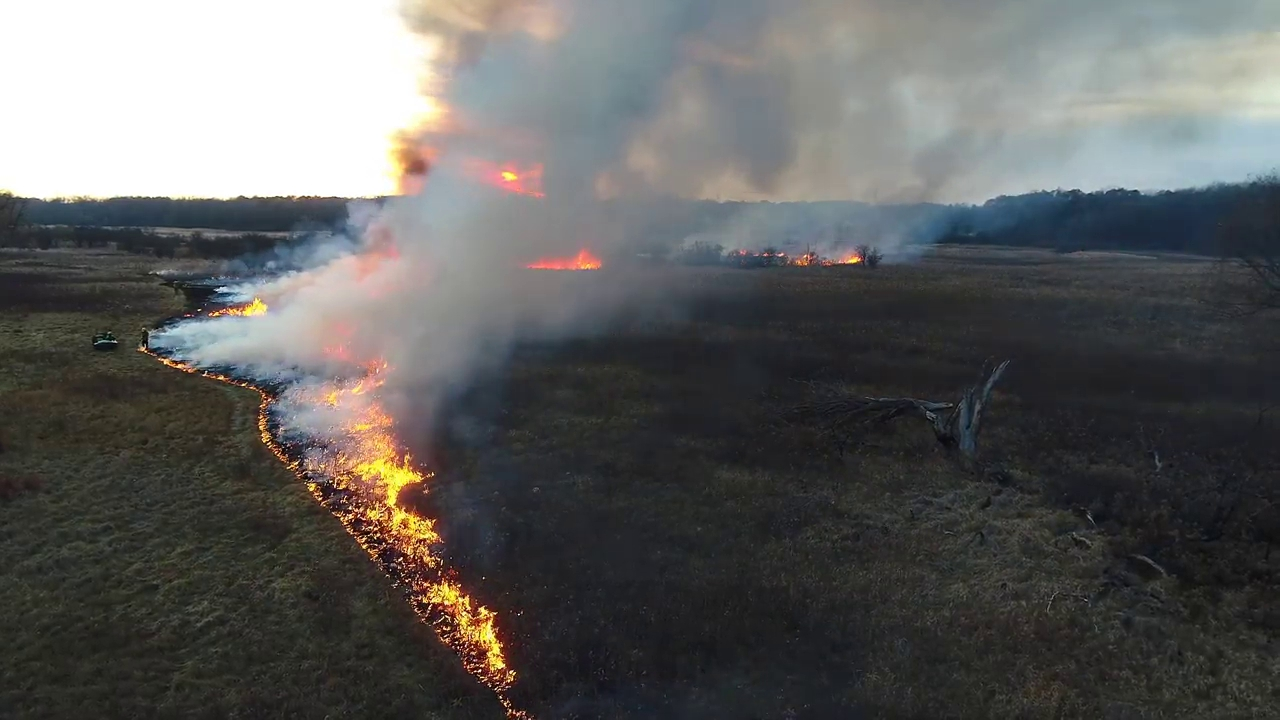forest_fire: (138, 343, 527, 718), (527, 248, 601, 270), (786, 251, 864, 266), (203, 298, 264, 316), (734, 252, 783, 261), (177, 317, 192, 321), (337, 333, 341, 334)
